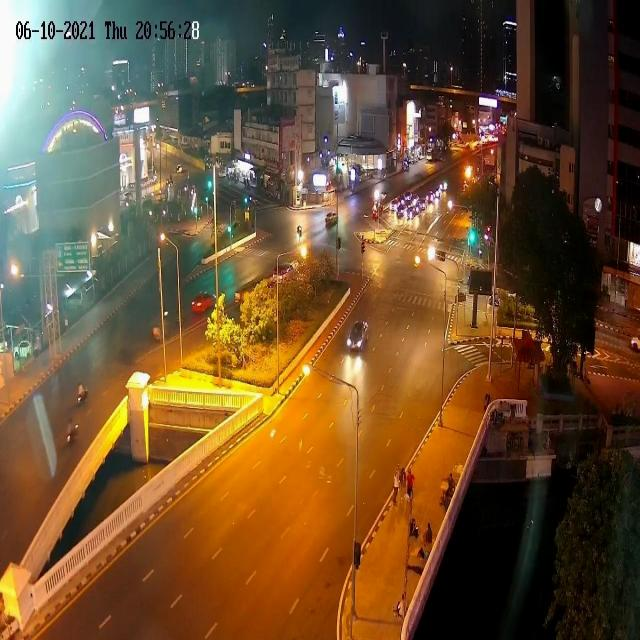Car: (346, 317, 370, 356), (272, 260, 298, 282), (192, 292, 216, 314), (324, 212, 338, 228), (426, 191, 436, 204), (390, 197, 398, 211), (406, 208, 415, 219), (439, 181, 447, 193), (396, 205, 404, 217), (398, 196, 406, 204), (404, 192, 412, 200)
Cycle: (67, 415, 78, 446), (76, 384, 88, 404)
